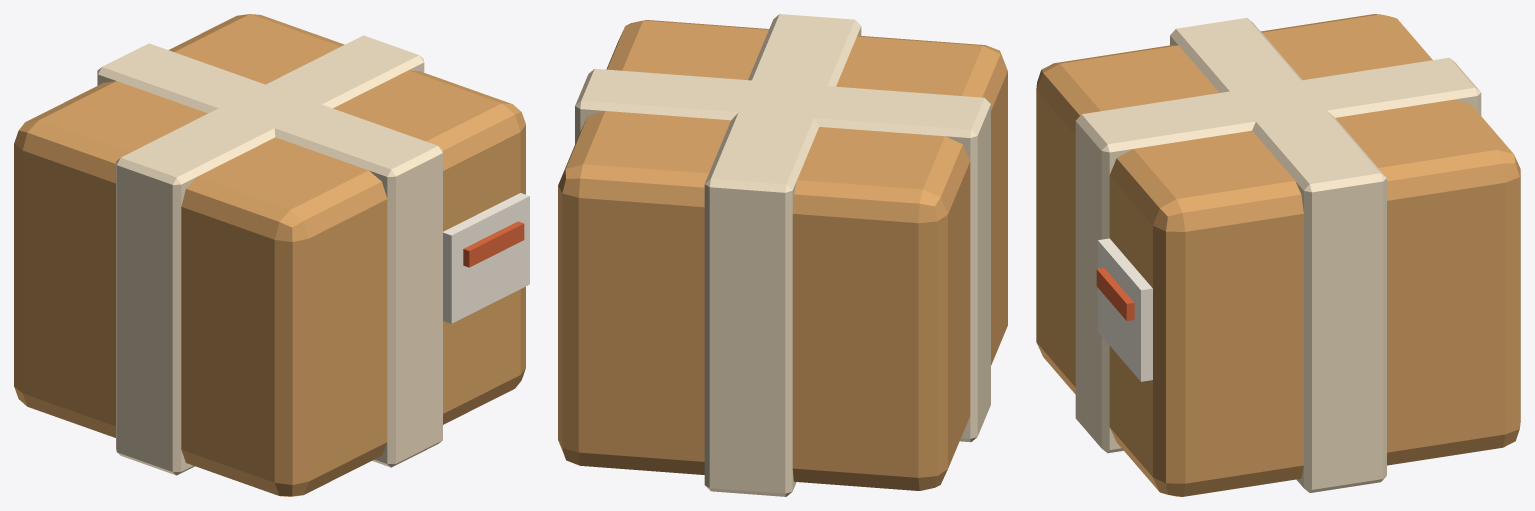
File: MOONSHIFT_ITM_Crate_Small_1Tile.glb
The picture shows the model from 3 angles, left to right: view 1: azimuth 30°, elevation 25°; view 2: azimuth 150°, elevation 25°; view 3: azimuth 270°, elevation 25°; orthographic projection. The views are drawn at different scales.
Visible parts, largest first — view 1: CrateS_Body, CrateS_TapeX, CrateS_TapeY, CrateS_Label, CrateS_LabelBar; view 2: CrateS_Body, CrateS_TapeY, CrateS_TapeX; view 3: CrateS_Body, CrateS_TapeX, CrateS_TapeY, CrateS_Label, CrateS_LabelBar.
Boxes of the visible parts, left/top/right/bottom form: CrateS_Body: left=14, top=14, right=525, bottom=496; CrateS_TapeX: left=116, top=35, right=424, bottom=475; CrateS_TapeY: left=97, top=43, right=442, bottom=467; CrateS_Label: left=443, top=193, right=529, bottom=323; CrateS_LabelBar: left=463, top=221, right=524, bottom=267; CrateS_Body: left=558, top=20, right=1007, bottom=490; CrateS_TapeY: left=704, top=14, right=861, bottom=496; CrateS_TapeX: left=575, top=68, right=990, bottom=442; CrateS_Body: left=1036, top=14, right=1520, bottom=496; CrateS_TapeX: left=1170, top=18, right=1386, bottom=492; CrateS_TapeY: left=1075, top=57, right=1481, bottom=453; CrateS_Label: left=1097, top=238, right=1152, bottom=381; CrateS_LabelBar: left=1096, top=268, right=1134, bottom=320.
Size of the model in its own units: 0.7673 by 0.54 by 0.7673.
